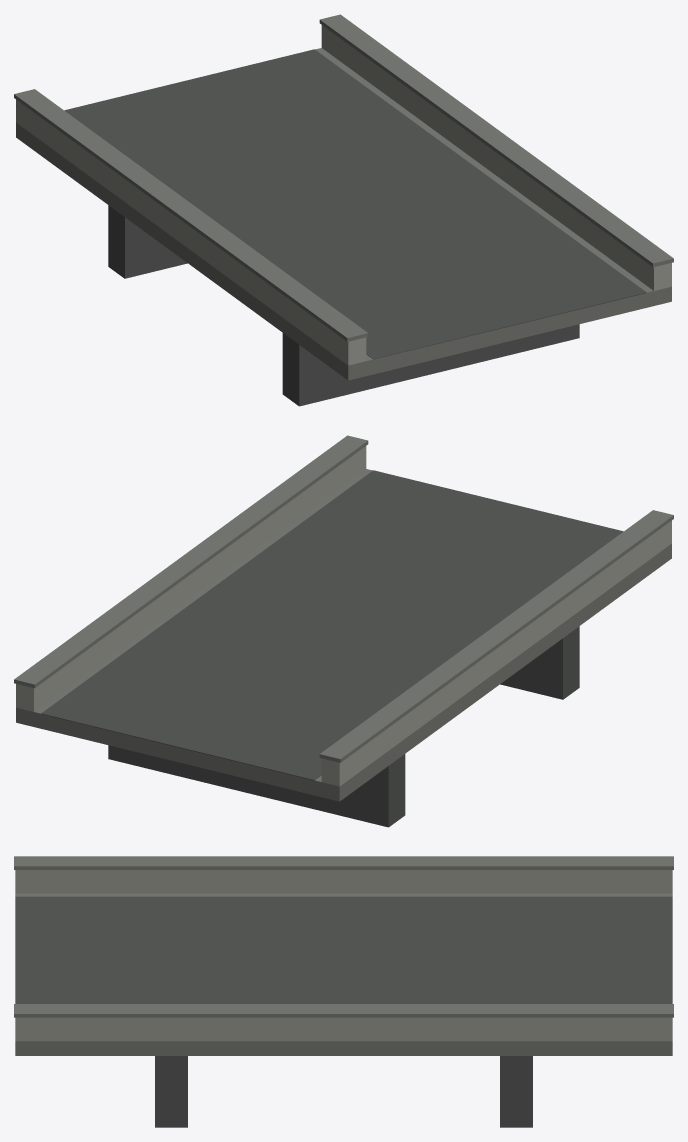
The model's file is bridge_concrete.glb.
The picture shows the model from 3 angles, top to bottom: view 1: azimuth 30°, elevation 25°; view 2: azimuth 150°, elevation 25°; view 3: azimuth 270°, elevation 25°; orthographic projection.
Visible parts, largest first — view 1: bridge_concrete; view 2: bridge_concrete; view 3: bridge_concrete.
Boxes of the visible parts, x1,y1,x2,y2 form: bridge_concrete: [14, 14, 673, 406]; bridge_concrete: [14, 435, 673, 827]; bridge_concrete: [14, 856, 673, 1127].
Size of what is drawn, in the model's own units: 9.08 by 3.35 by 16.06.
1 material, 1 textured.
